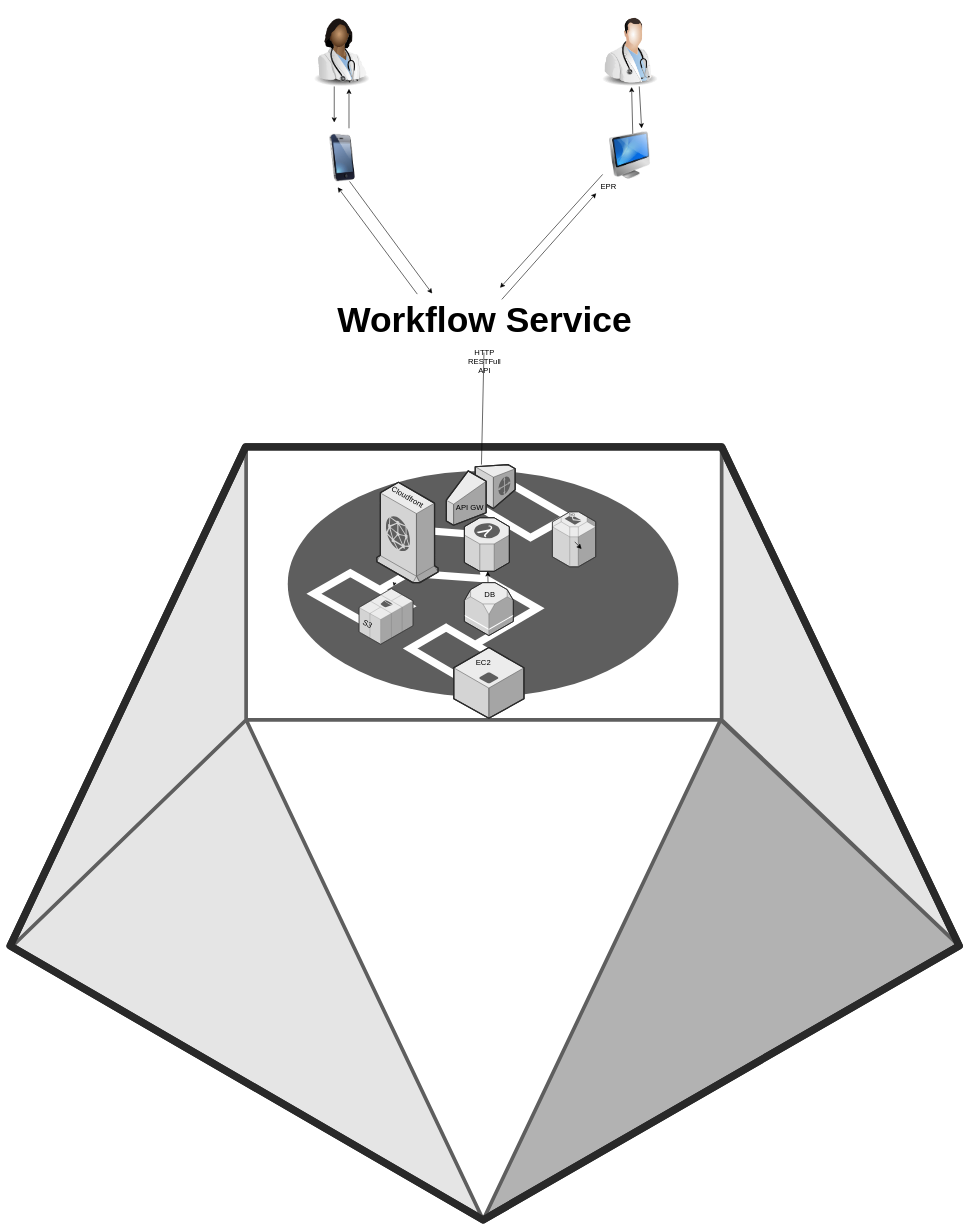
This 970x1230 diagram has some shape labels left out. The centre of each missing label's shape, as x and y in pixels:
Email: the point at 574,539
Lambda: the point at 486,544
